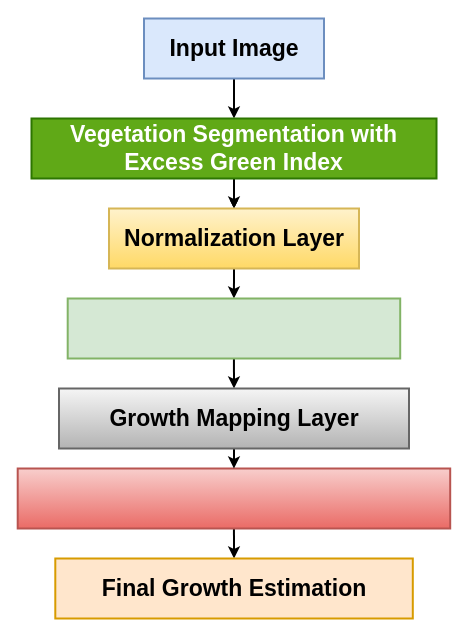
Image size: 469x636. Some labels were removed from this diagram. Here are the shapes that lost their labels. From the top down, the centre of each, then its label:
At (x=233, y=328): "Vegetation Index Layer".
At (x=233, y=498): "Switching Logic Fruit Detection".
